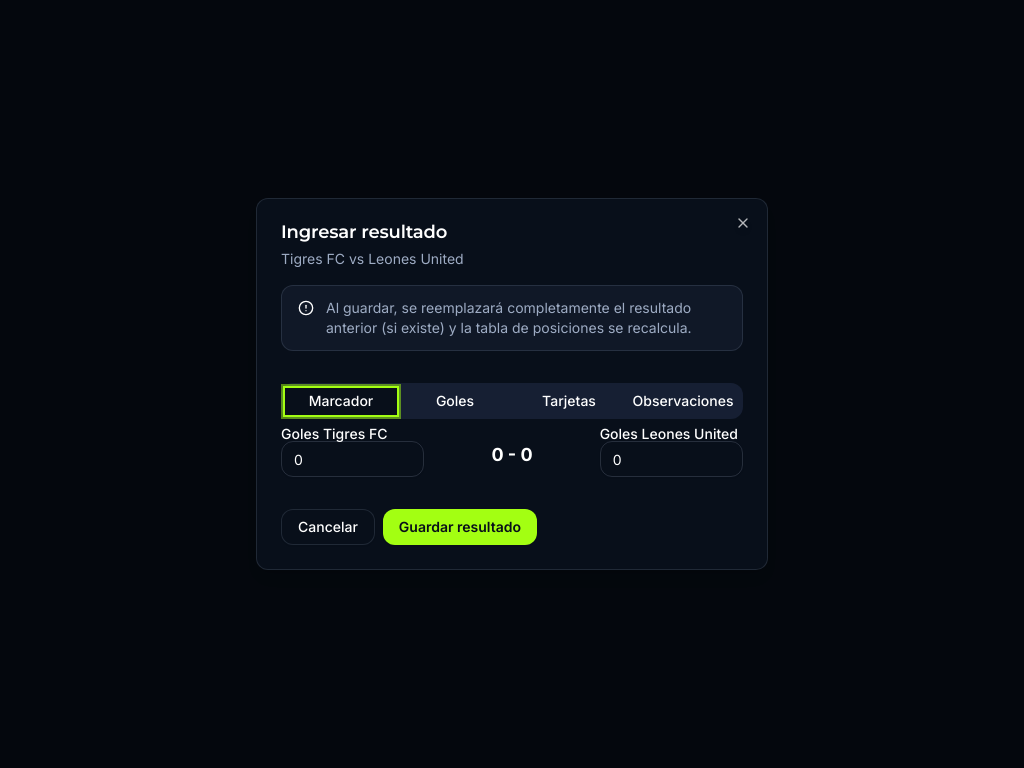
Test: MatchResultDialog › lists each roster so players can be picked per team
Click the tab "Goles". click: (455, 401)
box: [398,386,512,416]
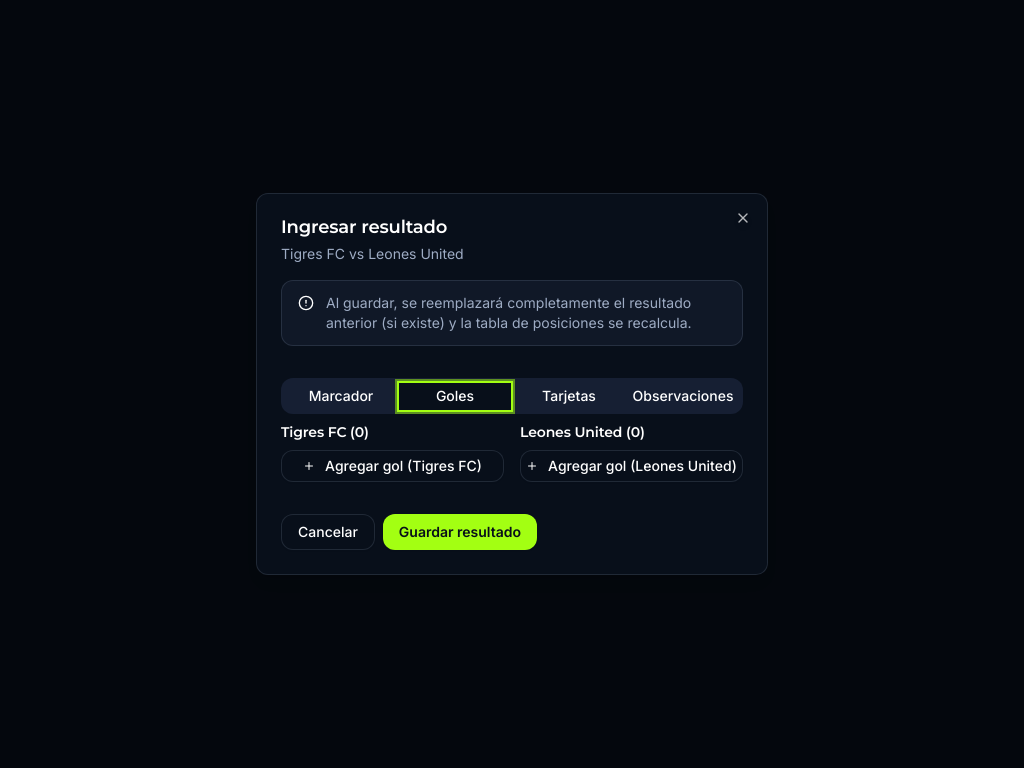
Click the button "Agregar gol (Leones United)". click: (632, 466)
box: [520,450,743,482]
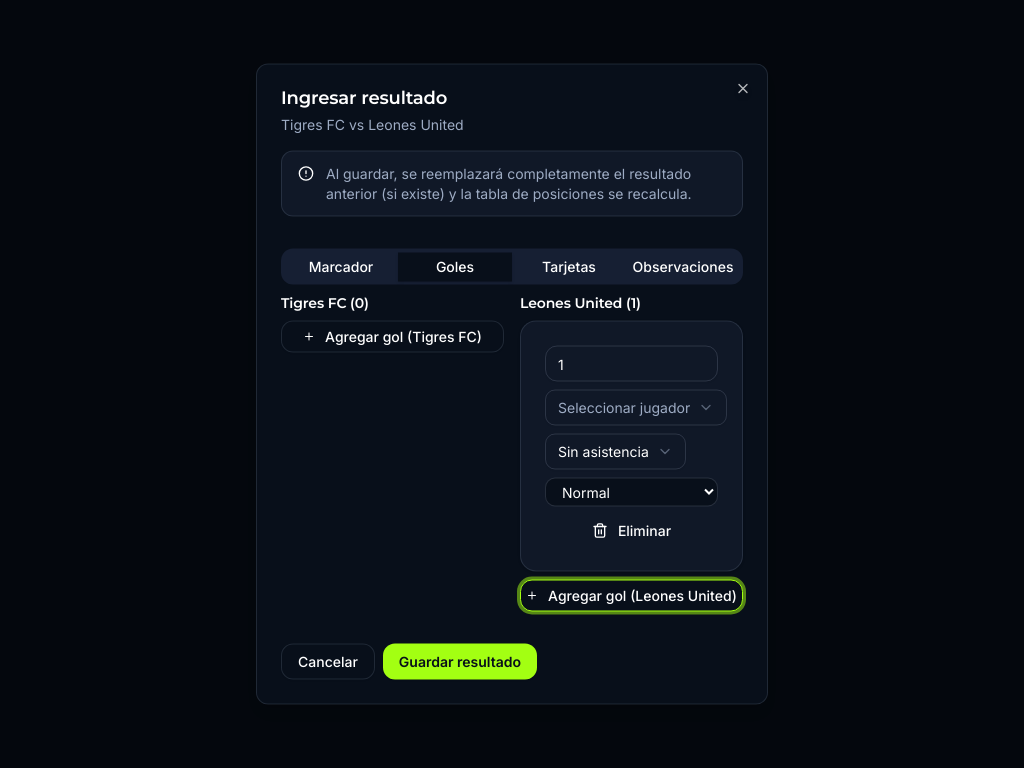
Click the dropdown named "Jugador (Leones United)". click: (636, 408)
box: [545,390,727,426]
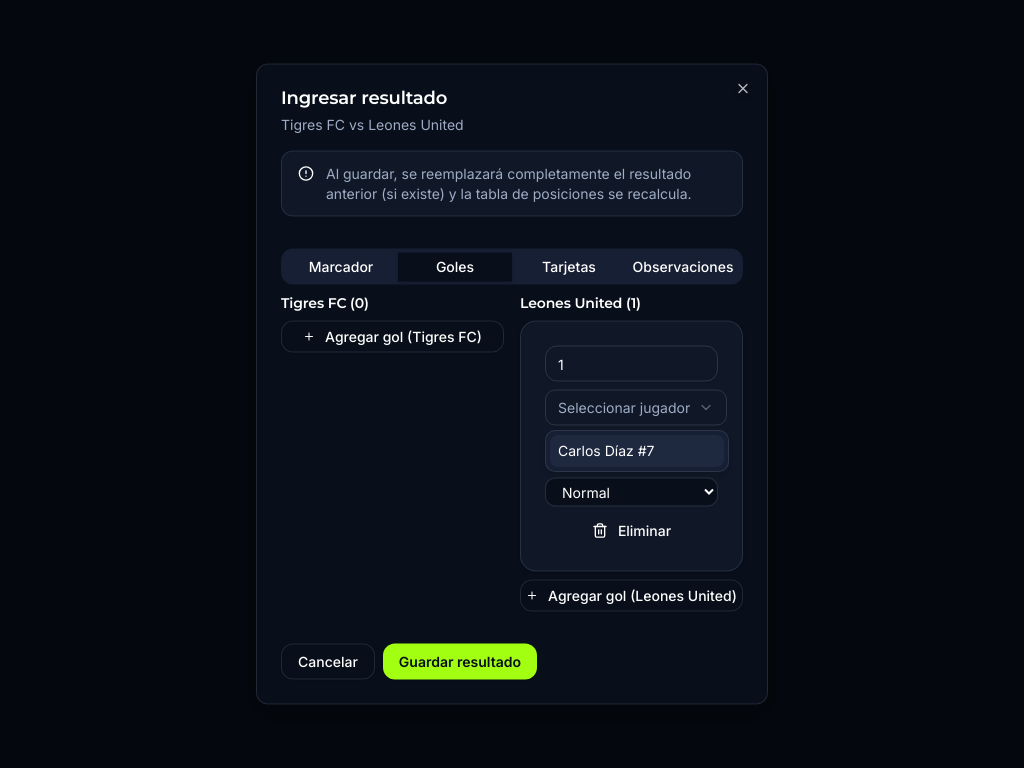
Now the options read "Carlos Díaz #7", in this order, box [550,435,724,467]
